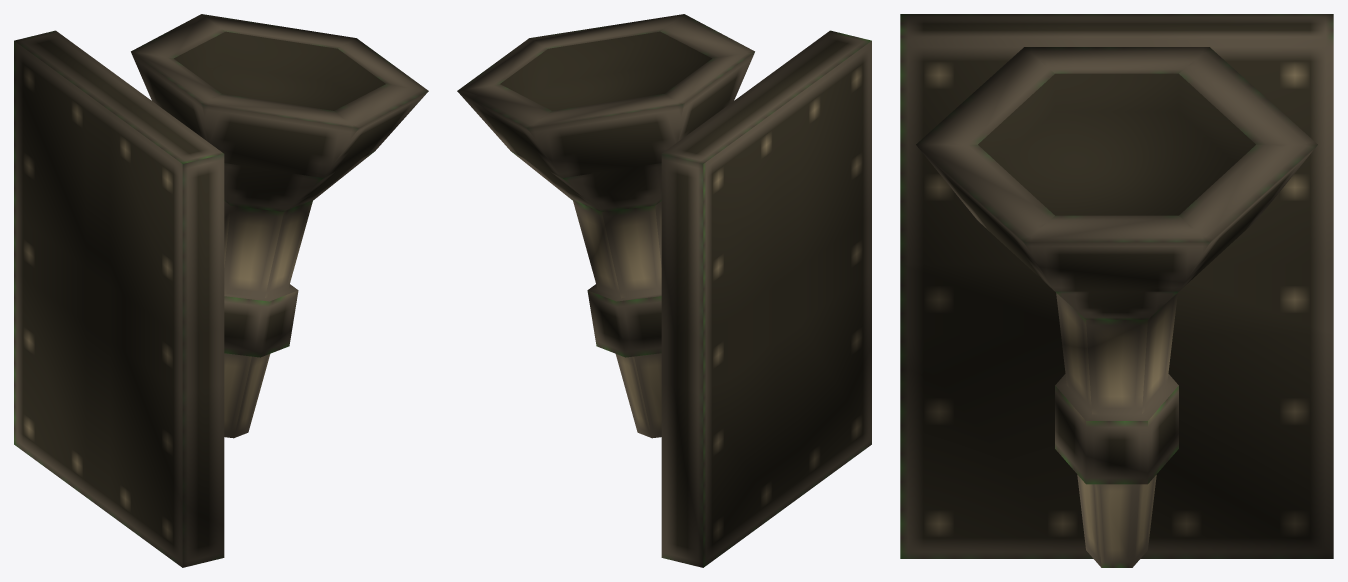
Rendered from Torch.fbx.
3 views of the same model, side by side, from view 1: azimuth 30°, elevation 25°; view 2: azimuth 150°, elevation 25°; view 3: azimuth 270°, elevation 25° (orthographic). The views are drawn at different scales.
Parts seen in each view (by area): view 1: Torch; view 2: Torch; view 3: Torch.
Part boxes in pixels (x1=…): Torch: x1=14, y1=14, x2=428, y2=567; Torch: x1=457, y1=14, x2=871, y2=567; Torch: x1=900, y1=14, x2=1333, y2=567.
Size of the model in its own units: 88.22 by 118 by 87.5.
